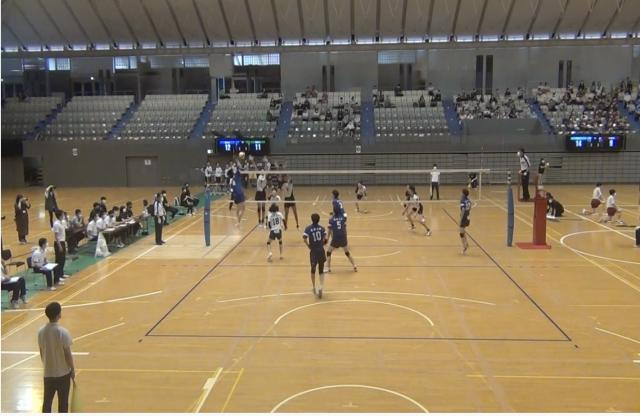spike: (223, 150, 250, 233)
